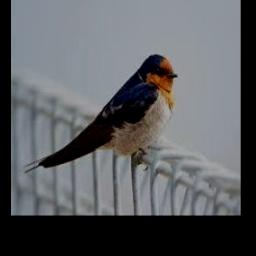Swallow: (23, 54, 178, 174)
